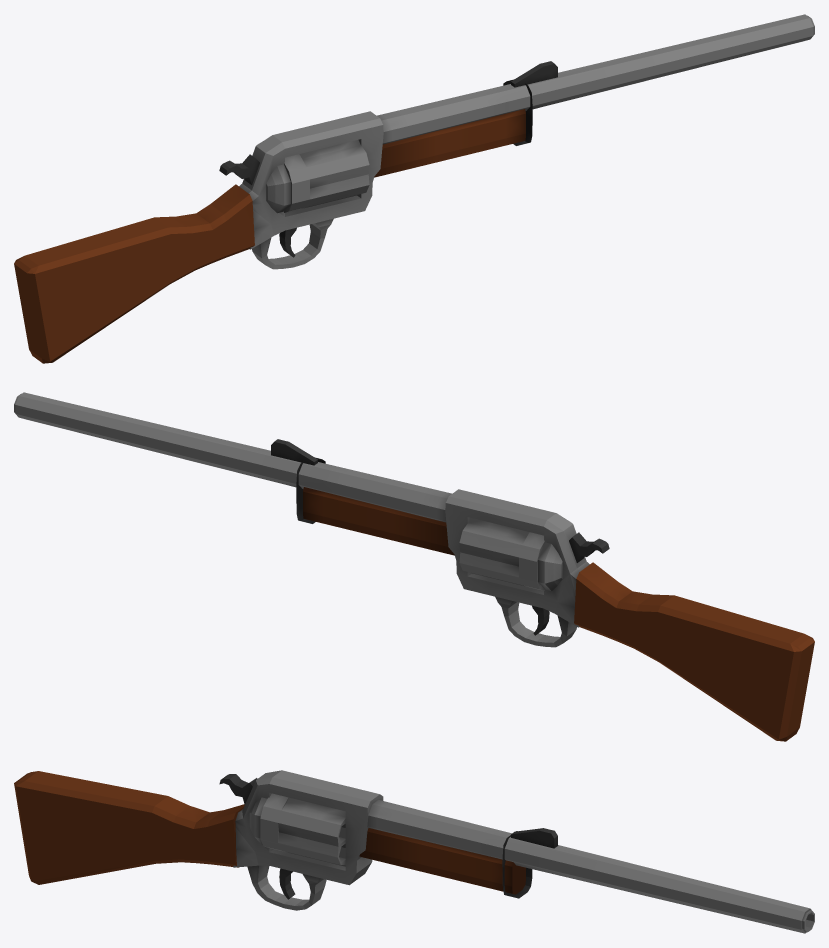
The model's file is v-revolver-rifles-long.glb.
3 renders of one model, top to bottom at view 1: azimuth 30°, elevation 25°; view 2: azimuth 150°, elevation 25°; view 3: azimuth 330°, elevation 25°, orthographic.
Visible parts, largest first — view 1: receiver (×3), stock, front (×3), grip (×2); view 2: receiver (×3), stock, front (×3), grip (×2); view 3: receiver (×3), stock, front (×3), grip (×3).
Boxes of the visible parts, box(x1,y1,x2,y2) form: receiver (×3): box(154, 87, 505, 285); stock: box(14, 217, 170, 363); front (×3): box(495, 14, 814, 145); grip (×2): box(170, 190, 348, 276); receiver (×3): box(323, 465, 674, 663); stock: box(658, 595, 814, 741); front (×3): box(14, 392, 333, 523); grip (×2): box(480, 568, 658, 654); receiver (×3): box(151, 770, 500, 888); stock: box(14, 771, 167, 884); front (×3): box(491, 828, 814, 933); grip (×3): box(167, 803, 328, 910).
Bounding box in the file's own units: 0.99 × 0.2057 × 0.0692.
